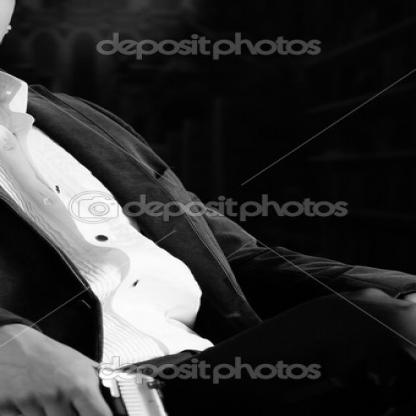gun: (0, 355, 235, 415)
